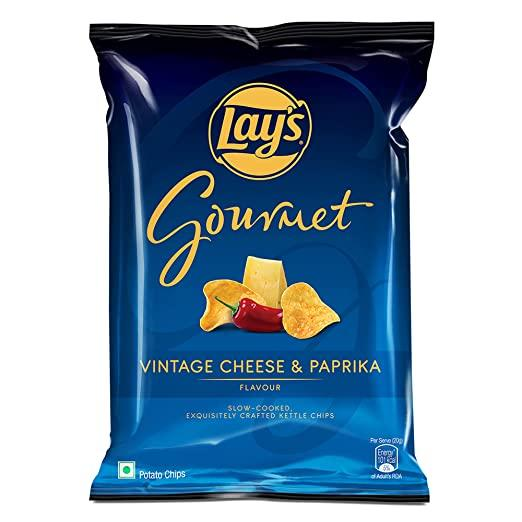Lays: (83, 19, 440, 505)
